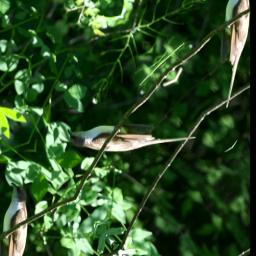Cuckoo: (63, 64, 198, 207)
